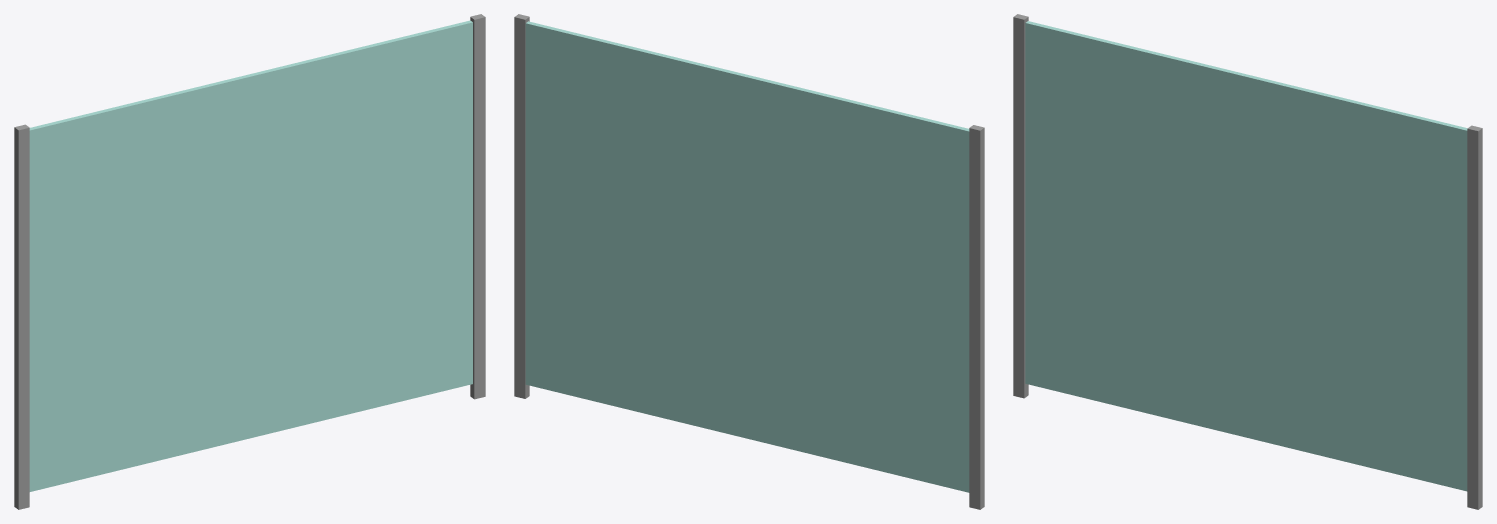
File: Window 2.0.fbx
The picture shows the model from 3 angles, left to right: view 1: azimuth 30°, elevation 25°; view 2: azimuth 150°, elevation 25°; view 3: azimuth 330°, elevation 25°; orthographic projection.
Parts seen in each view (by area): view 1: Cube, Cube.001, Cube.002; view 2: Cube, Cube.001, Cube.002; view 3: Cube, Cube.002, Cube.001.
Boxes of the visible parts, box(x1,y1,x2,y2) form: Cube: box(29, 20, 472, 491); Cube.001: box(14, 124, 29, 509); Cube.002: box(470, 14, 485, 399); Cube: box(525, 21, 969, 492); Cube.001: box(969, 125, 984, 509); Cube.002: box(514, 14, 529, 398); Cube: box(1025, 21, 1467, 491); Cube.002: box(1467, 125, 1482, 509); Cube.001: box(1013, 14, 1028, 398).
Size of the model in its own units: 1462 by 1138 by 24.84.
